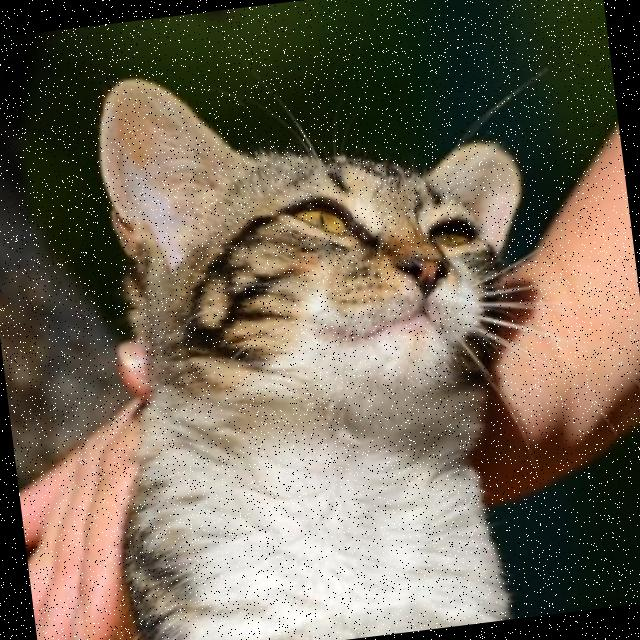Happy: (220, 129, 524, 440)
